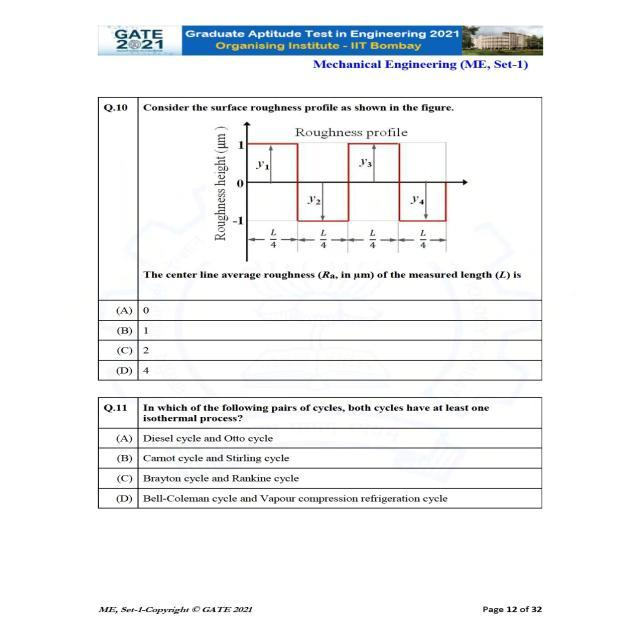Answer_Block: (43, 431, 586, 514), (43, 303, 586, 385)
Question_Answer_Block: (43, 84, 586, 386), (43, 392, 586, 549)
Question_Block: (43, 84, 586, 300), (43, 392, 586, 428)
Question_Paper_Area: (43, 84, 586, 548)
